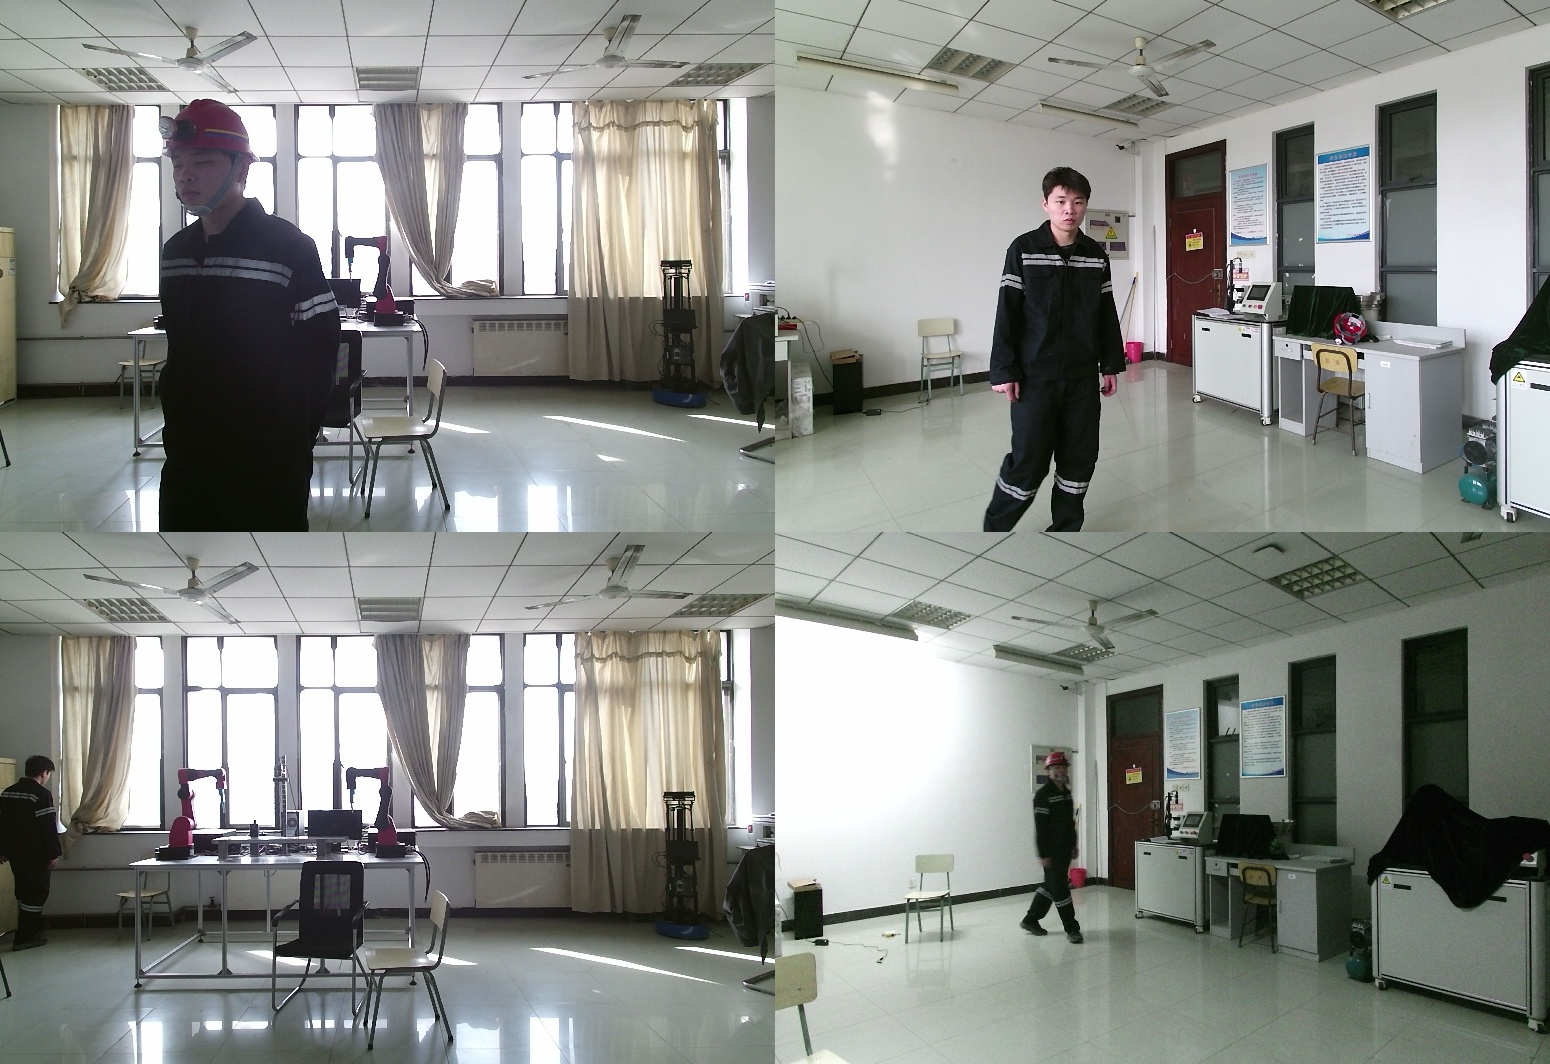person: (156, 98, 340, 532), (972, 167, 1122, 532), (1018, 752, 1082, 954), (1, 756, 68, 949)
